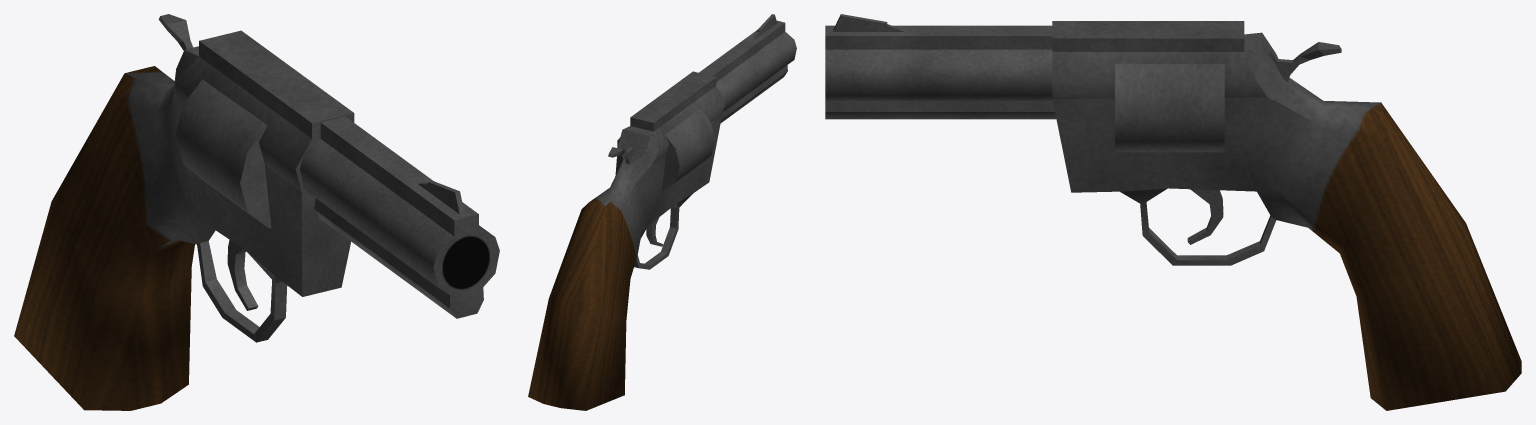
The model's file is revolver.fbx.
The picture shows the model from 3 angles, left to right: view 1: azimuth 30°, elevation 25°; view 2: azimuth 150°, elevation 25°; view 3: azimuth 270°, elevation 25°; orthographic projection. The views are drawn at different scales.
Parts seen in each view (by area): view 1: polySurface6; view 2: polySurface6; view 3: polySurface6.
Boxes of the visible parts, left/top/right/bottom form: polySurface6: left=14, top=14, right=499, bottom=410; polySurface6: left=528, top=14, right=796, bottom=410; polySurface6: left=825, top=14, right=1521, bottom=410.
Bounding box in the file's own units: 1.56 × 5.79 × 9.69.
Materials: 1 (1 with a texture image).
